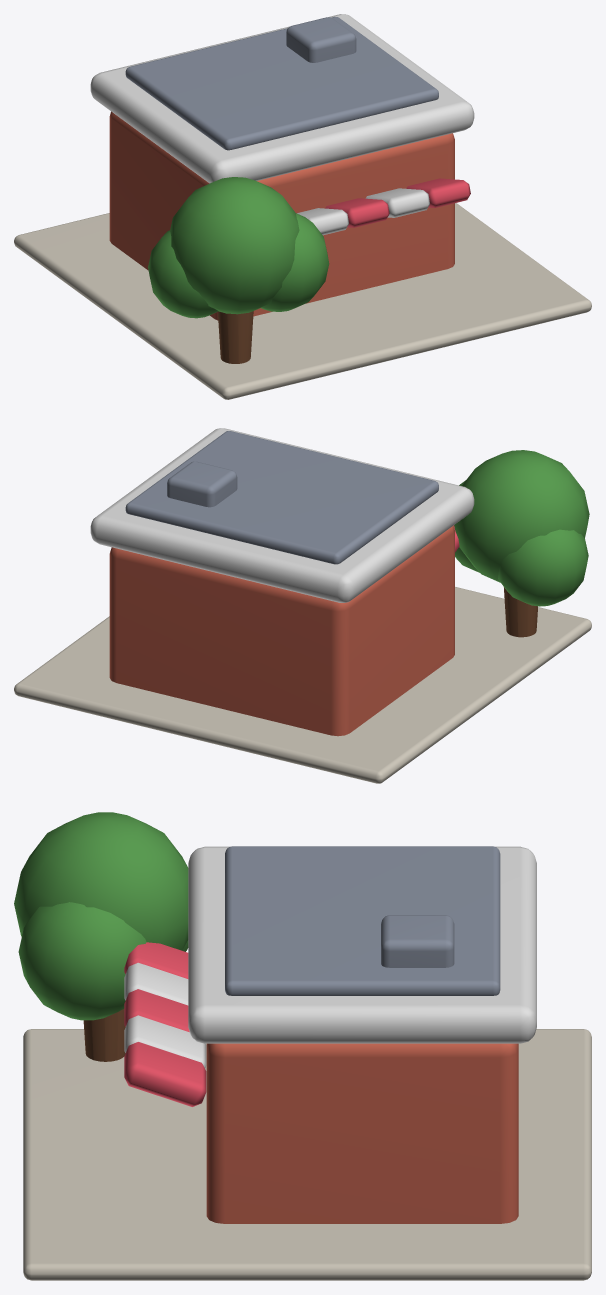
3 renders of one model, top to bottom at view 1: azimuth 30°, elevation 25°; view 2: azimuth 150°, elevation 25°; view 3: azimuth 270°, elevation 25°, orthographic. The views are drawn at different scales.
Visible parts, largest first — view 1: Cube; view 2: Cube; view 3: Cube.
Part boxes in pixels (<box>): Cube: <box>14,14,591,399</box>; Cube: <box>14,428,591,783</box>; Cube: <box>14,812,591,1280</box>.
Bounding box in the file's own units: 0.6682 × 0.33 × 0.63.
